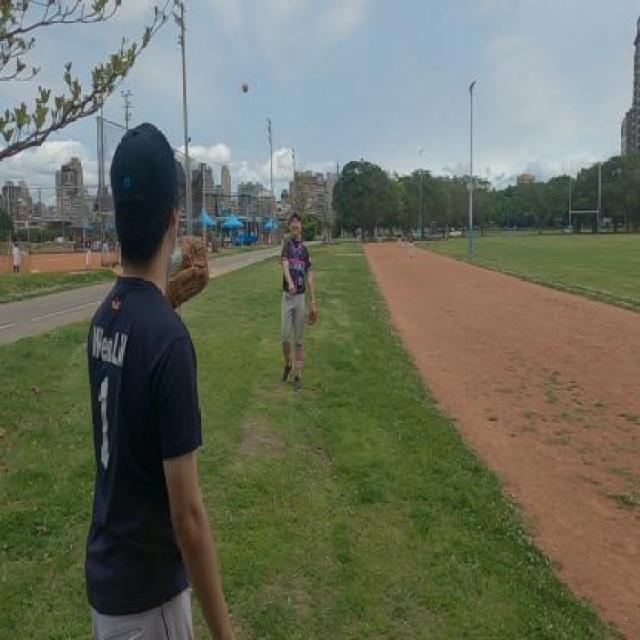baseball: (242, 81, 248, 93)
